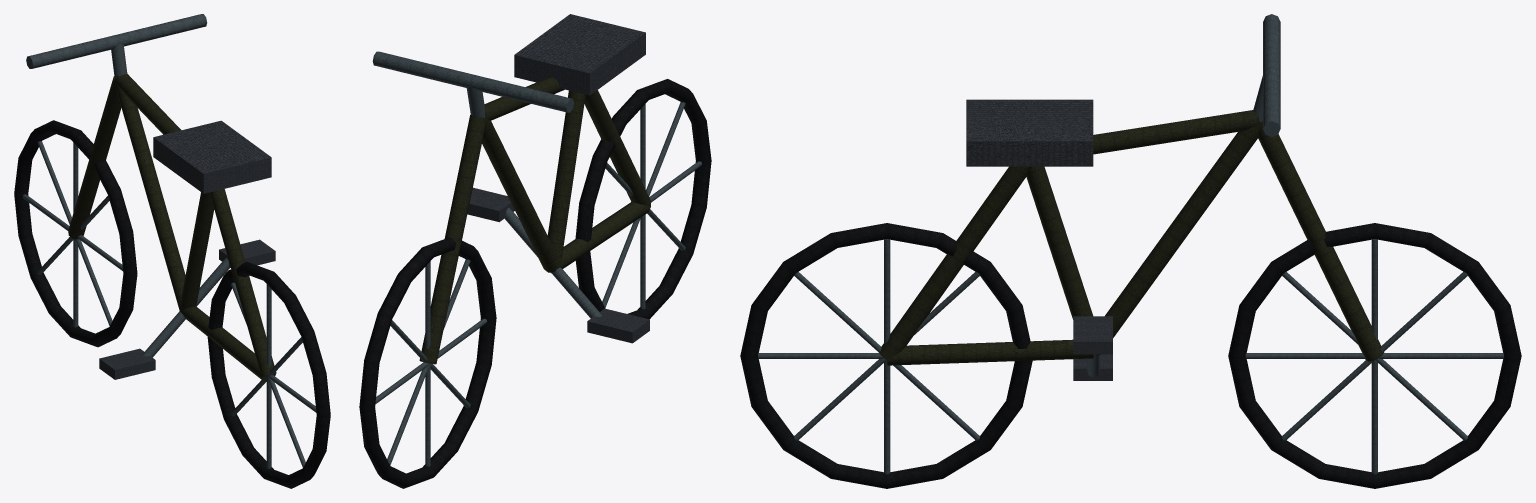
File: bicycle_blender.glb
The picture shows the model from 3 angles, left to right: view 1: azimuth 30°, elevation 25°; view 2: azimuth 150°, elevation 25°; view 3: azimuth 270°, elevation 25°; orthographic projection. The views are drawn at different scales.
Visible parts, largest first — view 1: _MeshInstance3D_5, _MeshInstance3D_16, _MeshInstance3D_33, _MeshInstance3D_29, _MeshInstance3D_25, _MeshInstance3D_32, _MeshInstance3D_30, _MeshInstance3D_27, _MeshInstance3D_26, _MeshInstance3D_28, _MeshInstance3D_36, _MeshInstance3D_38 (+10 smaller); view 2: _MeshInstance3D_5, _MeshInstance3D_16, _MeshInstance3D_33, _MeshInstance3D_30, _MeshInstance3D_32, _MeshInstance3D_29, _MeshInstance3D_27, _MeshInstance3D_25, _MeshInstance3D_26, _MeshInstance3D_36, _MeshInstance3D_38, _MeshInstance3D_28 (+12 smaller); view 3: _MeshInstance3D_5, _MeshInstance3D_16, _MeshInstance3D_33, _MeshInstance3D_30, _MeshInstance3D_29, _MeshInstance3D_25, _MeshInstance3D_26, _MeshInstance3D_27, _MeshInstance3D_28, _MeshInstance3D_32, _MeshInstance3D_38.
Part boxes in pixels (x1,y1,x2,y2): _MeshInstance3D_5: (14, 120, 137, 347); _MeshInstance3D_16: (207, 262, 330, 488); _MeshInstance3D_33: (153, 120, 271, 193); _MeshInstance3D_29: (114, 81, 185, 310); _MeshInstance3D_25: (209, 189, 276, 376); _MeshInstance3D_32: (26, 14, 207, 68); _MeshInstance3D_30: (68, 76, 121, 239); _MeshInstance3D_27: (180, 192, 214, 311); _MeshInstance3D_26: (180, 306, 275, 381); _MeshInstance3D_28: (114, 74, 181, 134); _MeshInstance3D_36: (99, 348, 155, 379); _MeshInstance3D_38: (219, 239, 275, 267); _MeshInstance3D_5: (359, 237, 496, 488); _MeshInstance3D_16: (575, 79, 711, 319); _MeshInstance3D_33: (514, 14, 645, 95); _MeshInstance3D_30: (419, 115, 486, 364); _MeshInstance3D_32: (372, 51, 573, 112); _MeshInstance3D_29: (482, 118, 559, 272); _MeshInstance3D_27: (547, 90, 585, 266); _MeshInstance3D_25: (584, 90, 651, 206); _MeshInstance3D_26: (550, 202, 650, 272); _MeshInstance3D_36: (587, 308, 649, 343); _MeshInstance3D_38: (467, 187, 514, 222); _MeshInstance3D_28: (484, 77, 564, 120); _MeshInstance3D_5: (1228, 223, 1521, 488); _MeshInstance3D_16: (740, 223, 1032, 488); _MeshInstance3D_33: (966, 99, 1093, 166); _MeshInstance3D_30: (1258, 121, 1384, 361); _MeshInstance3D_29: (1097, 123, 1259, 355); _MeshInstance3D_25: (879, 166, 1028, 359); _MeshInstance3D_26: (887, 339, 1093, 365); _MeshInstance3D_27: (1026, 166, 1093, 319); _MeshInstance3D_28: (1093, 110, 1259, 154); _MeshInstance3D_32: (1263, 14, 1280, 136); _MeshInstance3D_38: (1073, 316, 1112, 354).
Size of the model in its own units: 0.64 by 1.17 by 1.97.
4 materials, 4 textured.
